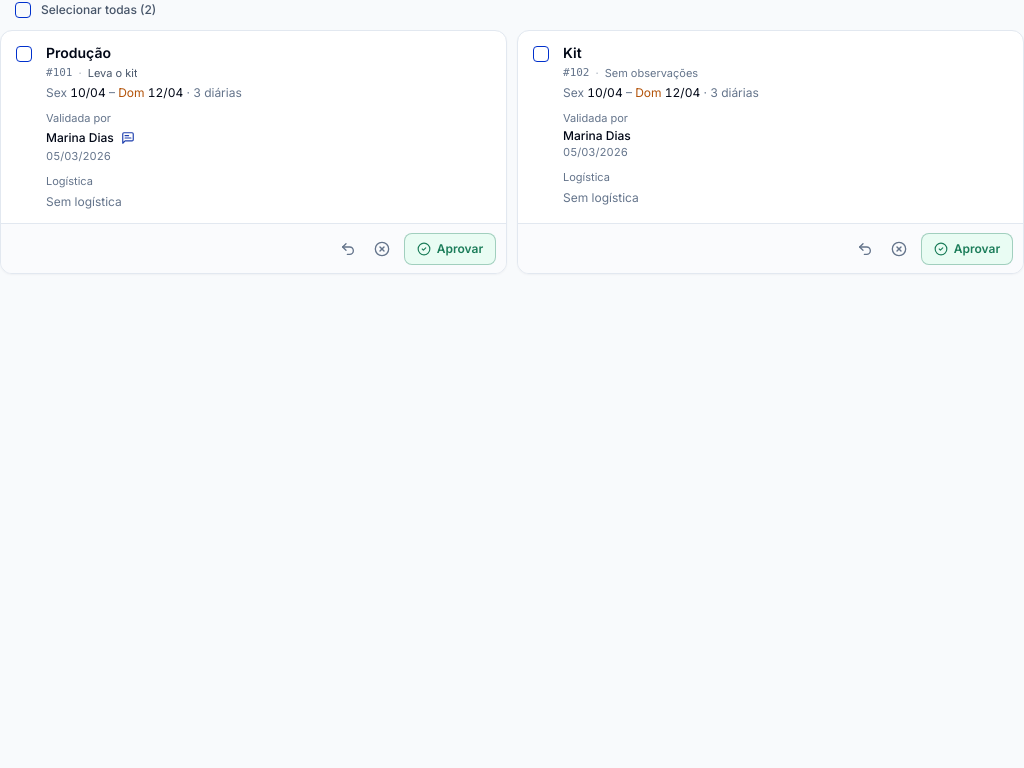
Test: Aprovação → detalhe da vaga no estilo da Validação › clicar no checkbox ou num botão da linha não abre o detalhe
Step 1. Click the checkbox named "Selecionar vaga #101" → (24, 54), box x1=16 y1=46 x2=32 y2=62
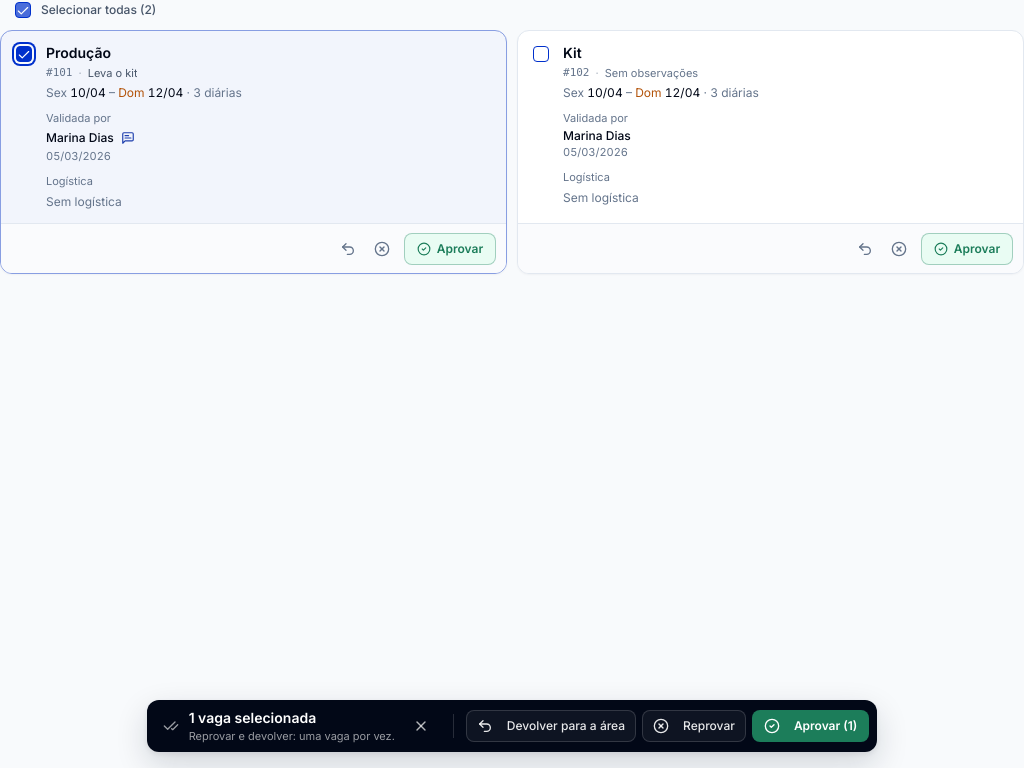
Step 2. Click the button named "Devolver a vaga #101 para a área" → (348, 248), box x1=332 y1=232 x2=364 y2=264
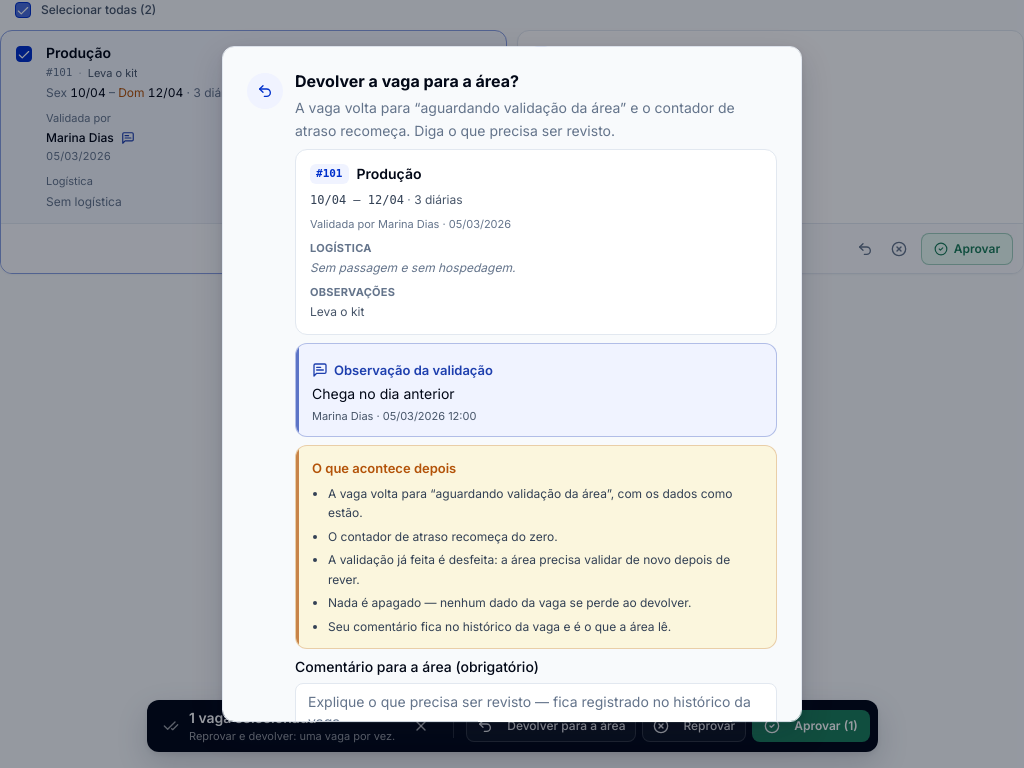
Expected: the dialog is shown, x1=222 y1=46 x2=802 y2=722
